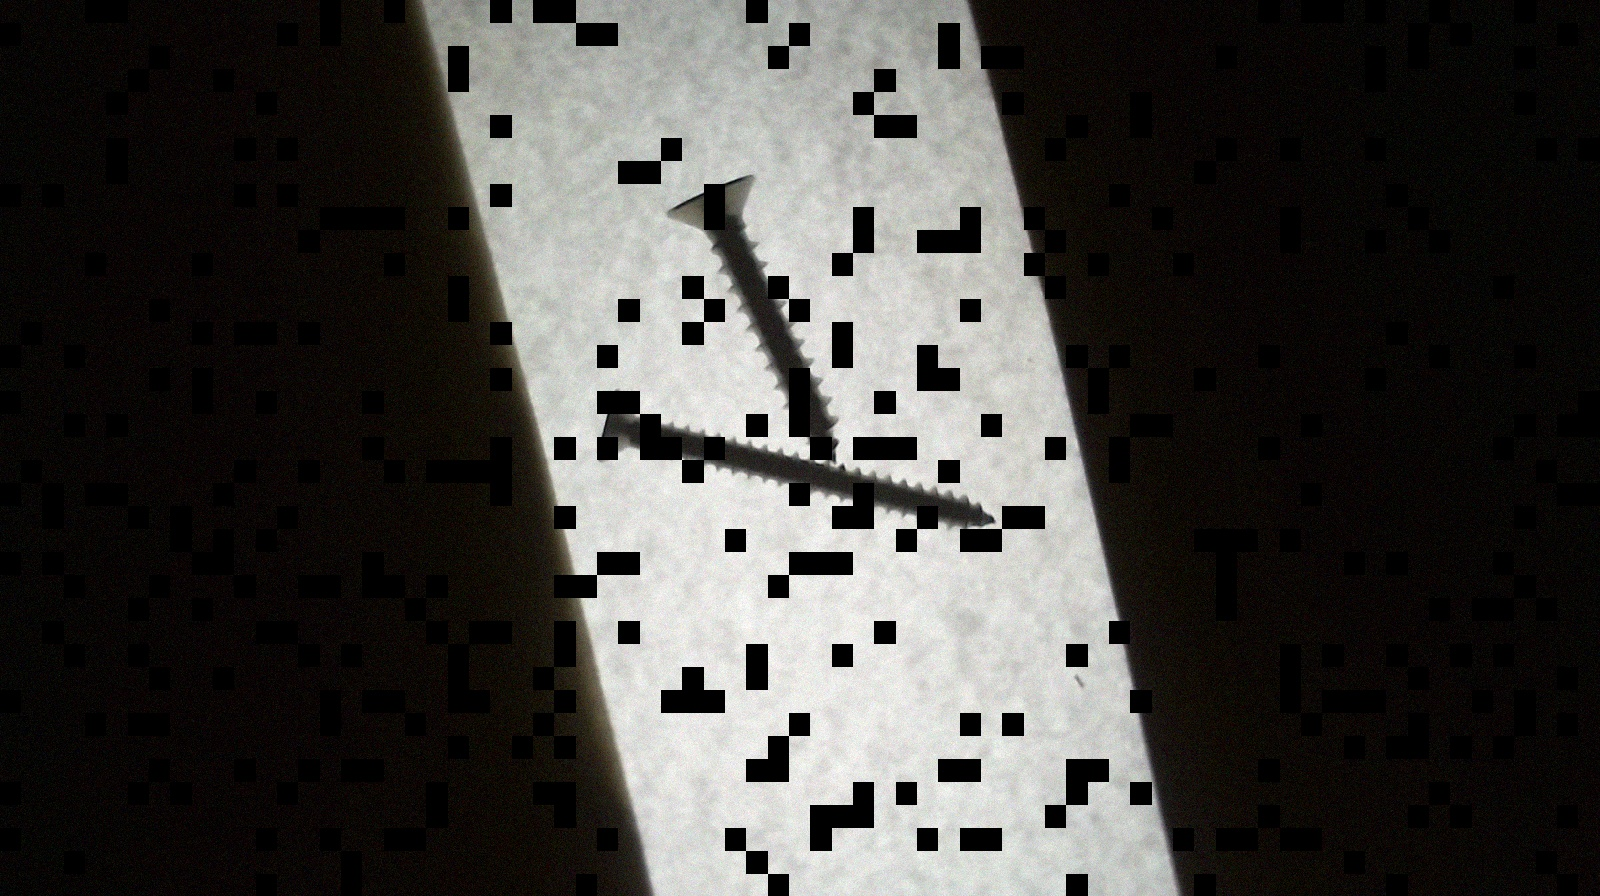S001: (657, 169, 844, 465)
S002: (595, 384, 997, 535)
